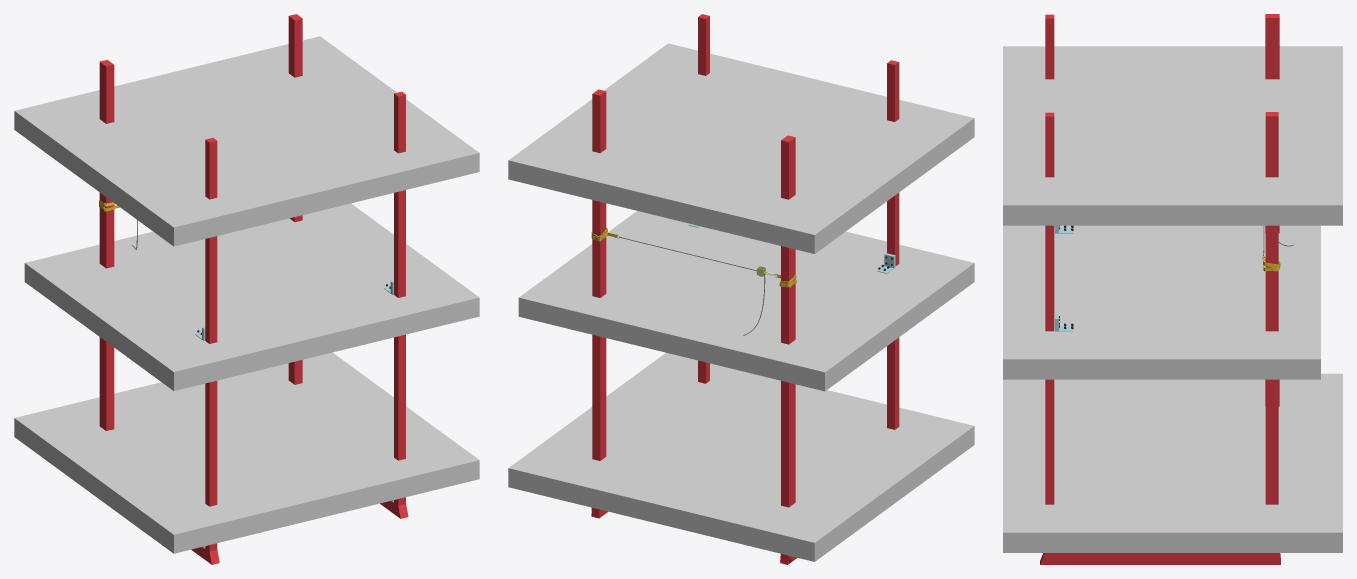
Rendered from Escena anclaje temporal.fbx.
3 views of the same model, side by side, from view 1: azimuth 30°, elevation 25°; view 2: azimuth 150°, elevation 25°; view 3: azimuth 270°, elevation 25° (orthographic). The views are drawn at different scales.
Parts seen in each view (by area): view 1: Cube, Cube.001, Cube.002; view 2: Cube, Cube.001, Cube.002; view 3: Cube, Cube.001, Cube.002.
Part boxes in pixels (<box>): Cube: <box>14,36,479,553</box>; Cube.001: <box>99,14,405,343</box>; Cube.002: <box>99,334,408,564</box>; Cube: <box>508,43,974,561</box>; Cube.001: <box>592,14,899,344</box>; Cube.002: <box>591,334,899,564</box>; Cube: <box>1003,46,1342,552</box>; Cube.001: <box>1045,14,1279,331</box>; Cube.002: <box>1040,379,1280,564</box>.
Size of the model in its own units: 4623 by 6083 by 4176.
